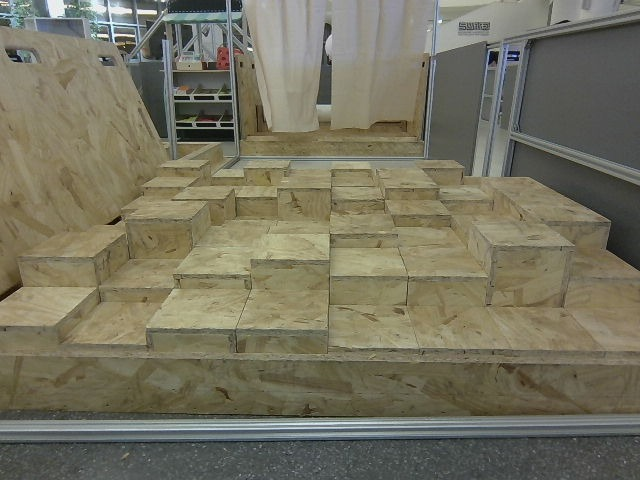curtain: (256, 0, 403, 130)
